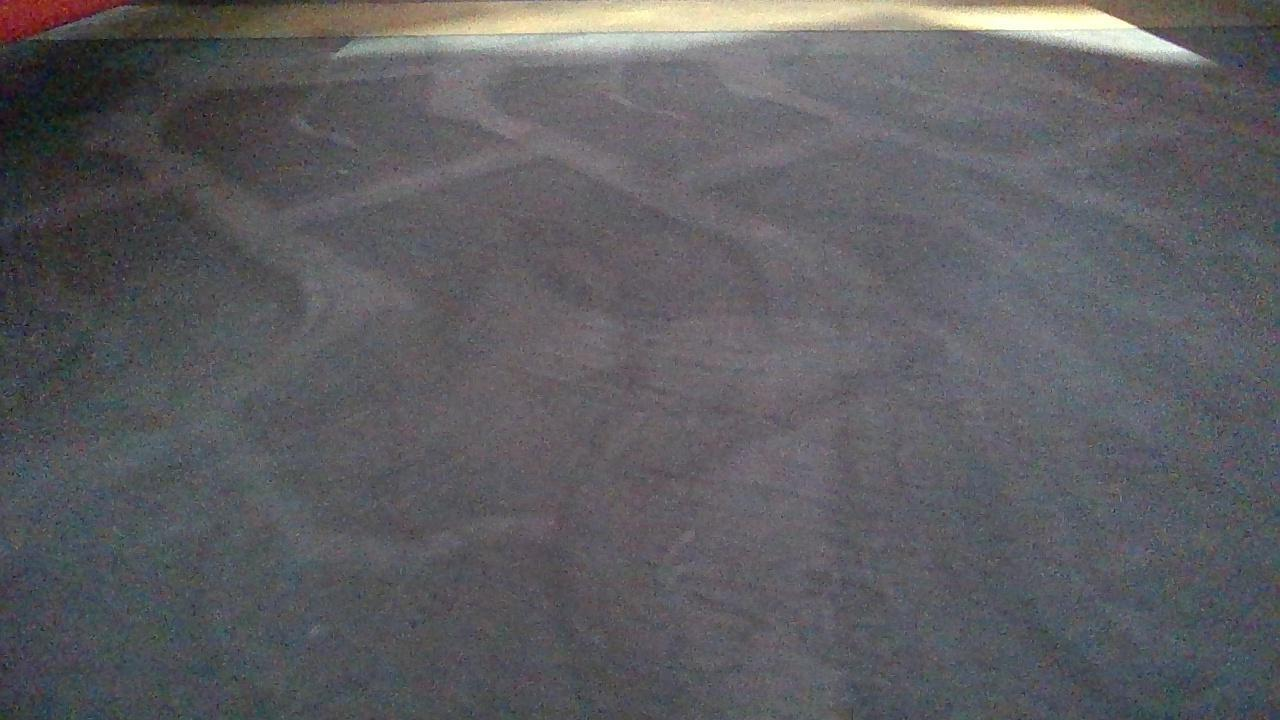yellow_line: (19, 0, 1280, 40)
